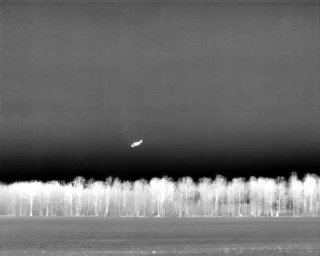DRONE: (127, 135, 147, 152)
